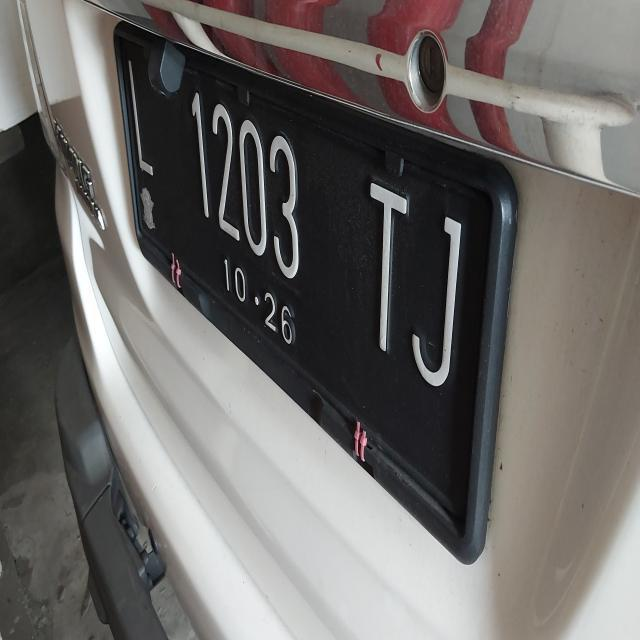0: (240, 115, 271, 262)
1: (187, 85, 210, 224)
2: (212, 98, 240, 246)
3: (270, 128, 300, 283)
J: (410, 195, 466, 392)
L: (119, 50, 164, 179)
T: (362, 167, 410, 358)
